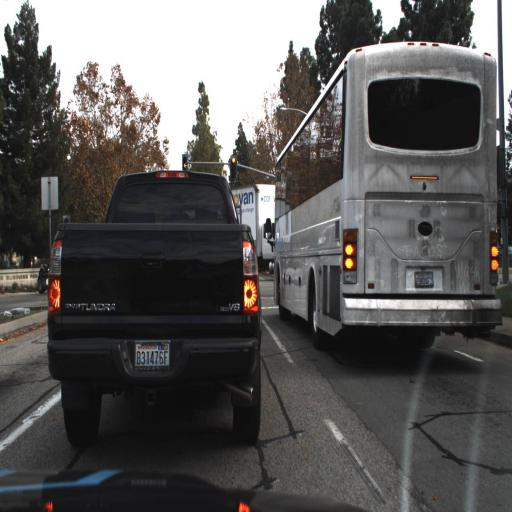car: (52, 172, 258, 434), (35, 261, 50, 295)
trafficLight: (182, 153, 188, 172), (61, 214, 71, 224)
trafficLight-Red: (228, 156, 238, 180)
truck: (272, 44, 497, 352)
